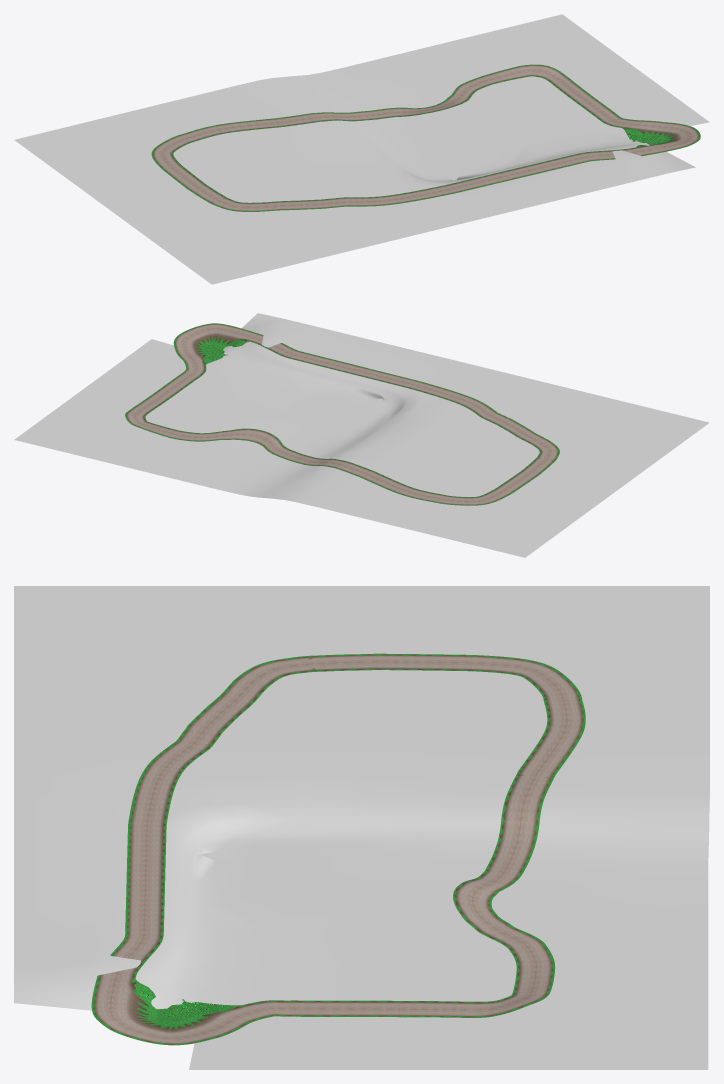
File: Track_Terrain.FBX
The picture shows the model from 3 angles, top to bottom: view 1: azimuth 30°, elevation 25°; view 2: azimuth 150°, elevation 25°; view 3: azimuth 270°, elevation 25°; orthographic projection. The views are drawn at different scales.
Visible parts, largest first — view 1: Plane005, Plane003; view 2: Plane005, Plane003; view 3: Plane005, Plane003.
Boxes of the visible parts, x1,y1,x2,y2 form: Plane005: [14, 14, 709, 284]; Plane003: [151, 64, 700, 211]; Plane005: [14, 313, 709, 557]; Plane003: [125, 323, 559, 505]; Plane005: [14, 586, 709, 1069]; Plane003: [91, 653, 585, 1045].
Size of the model in its own units: 951 by 16.42 by 595.
